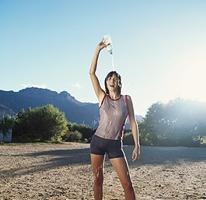person without safety: (95, 70, 139, 194)
